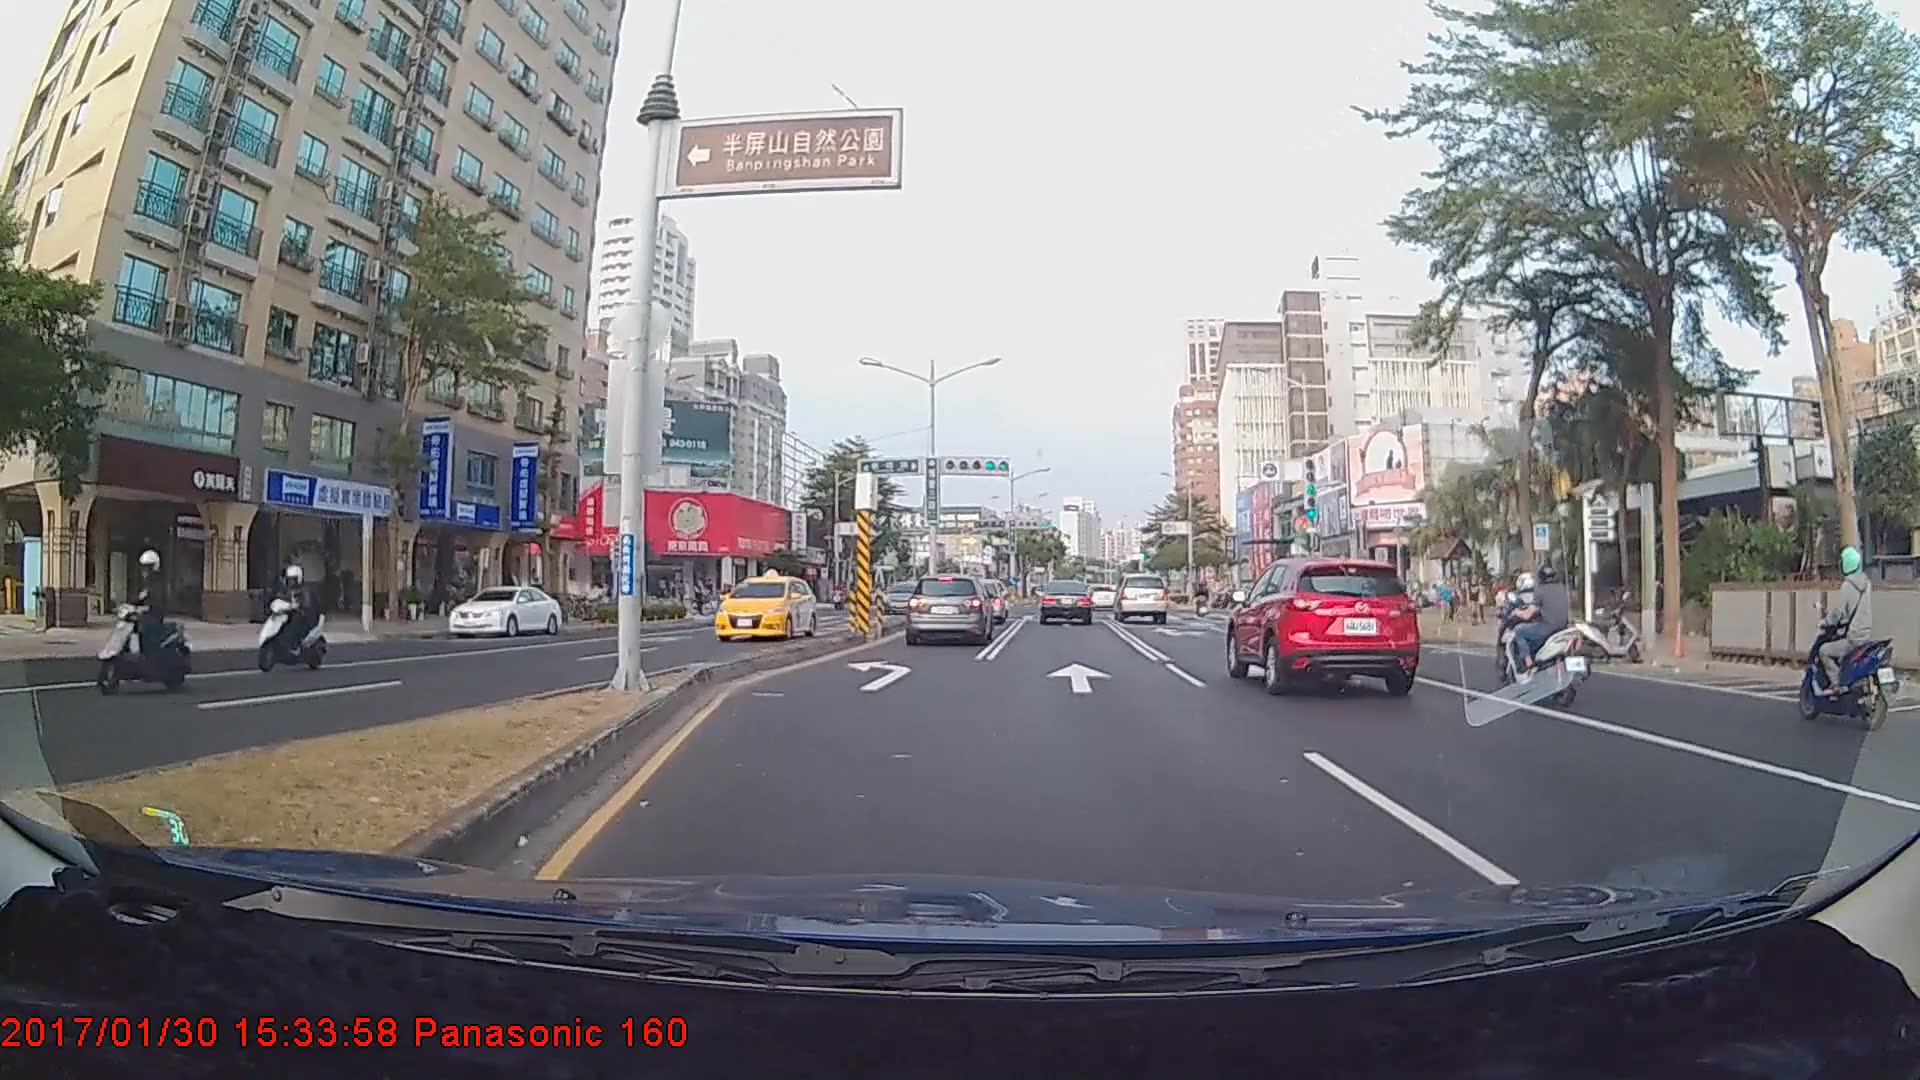rider: (1793, 545, 1907, 734), (96, 547, 194, 697), (1500, 563, 1597, 710), (254, 568, 335, 681)
vehicle: (1230, 549, 1422, 694), (718, 568, 820, 641), (904, 573, 991, 645), (449, 584, 562, 638), (1113, 573, 1169, 624), (1037, 578, 1092, 626)
